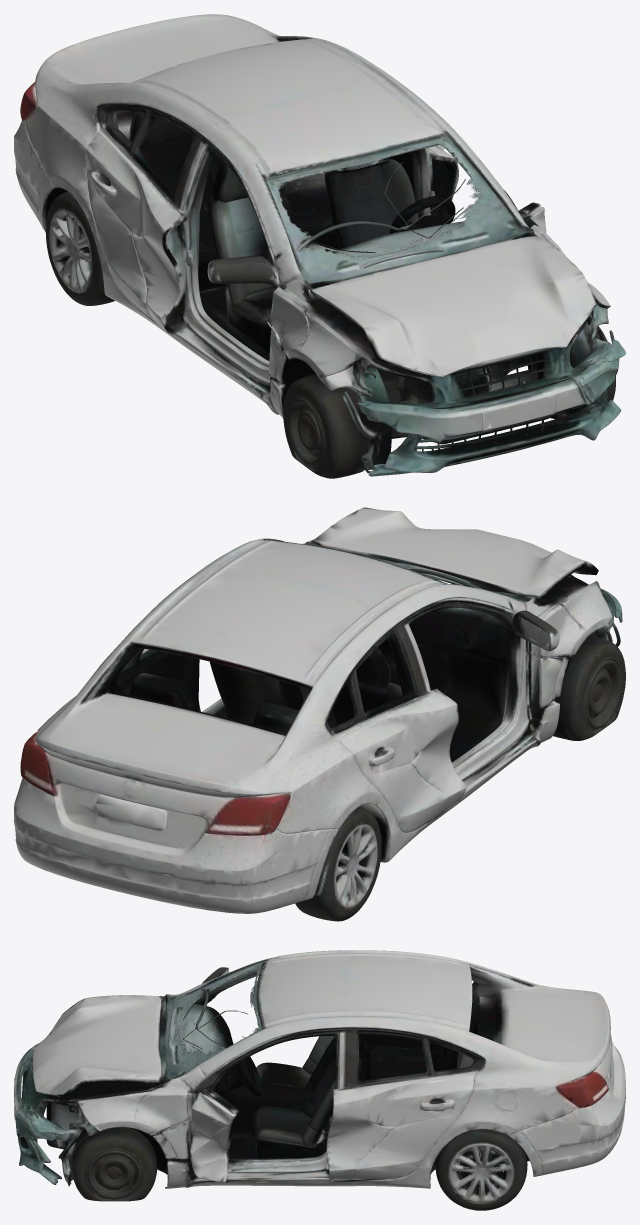
The model's file is broken_car_b6d2e66d_v4.glb.
3 views of the same model, one above another, from view 1: azimuth 30°, elevation 25°; view 2: azimuth 150°, elevation 25°; view 3: azimuth 270°, elevation 25° (orthographic). The views are drawn at different scales.
Parts seen in each view (by area): view 1: material; view 2: material; view 3: material.
Part boxes in pixels (x1,y1,x2,y2): material: (14, 14, 625, 478); material: (14, 507, 625, 921); material: (14, 950, 625, 1210).
Bounding box in the file's own units: 0.5677 × 0.3779 × 1.16.
Materials: 1 (1 with a texture image).
